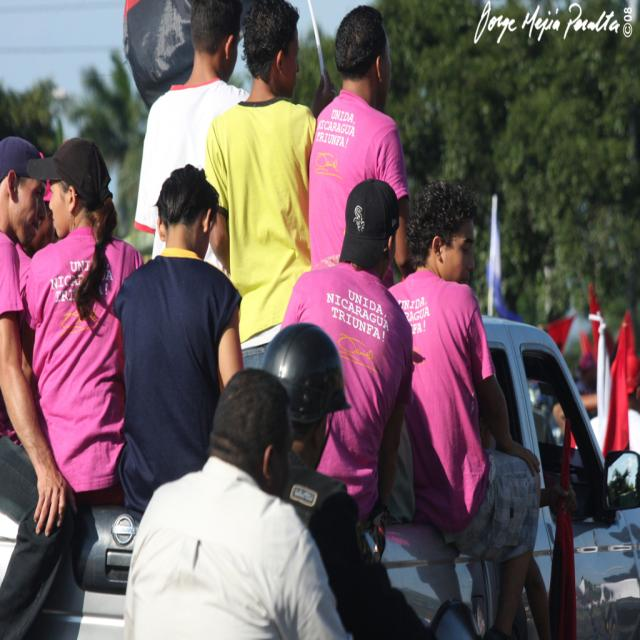car: (0, 314, 639, 638)
